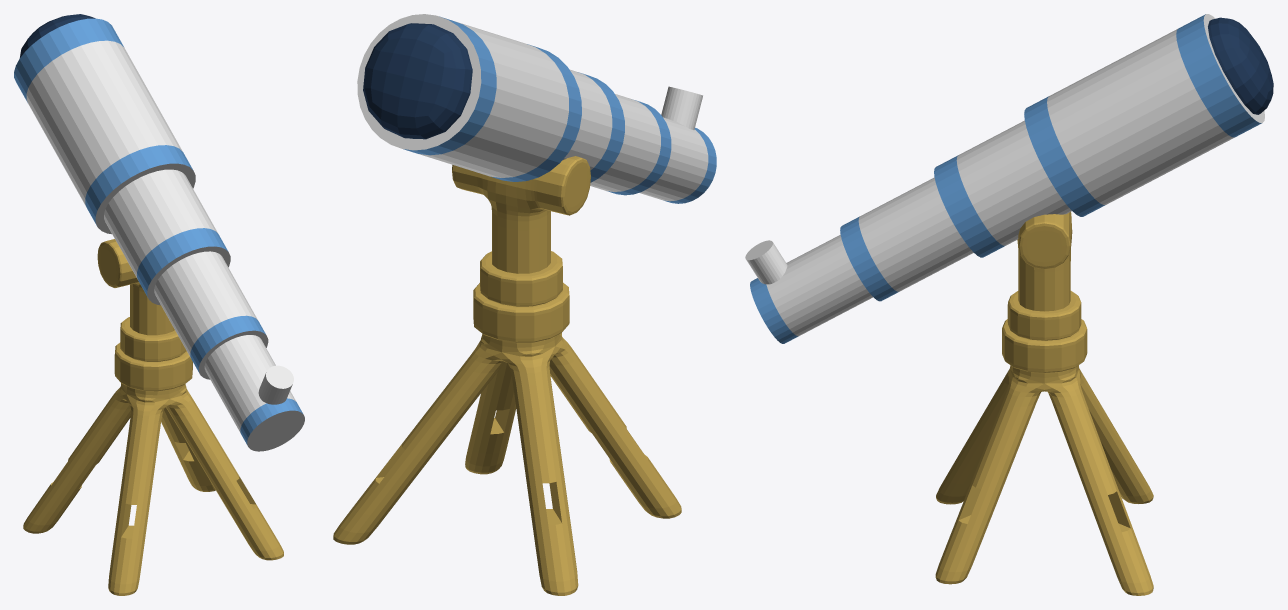
The model's file is Telescopio.glb.
3 views of the same model, side by side, from view 1: azimuth 30°, elevation 25°; view 2: azimuth 150°, elevation 25°; view 3: azimuth 270°, elevation 25° (orthographic). The views are drawn at different scales.
Parts seen in each view (by area): view 1: Cylinder.001; view 2: Cylinder.001; view 3: Cylinder.001.
Boxes of the visible parts, x1=… form: Cylinder.001: x1=14, y1=14, x2=304, y2=595; Cylinder.001: x1=333, y1=14, x2=716, y2=595; Cylinder.001: x1=745, y1=14, x2=1273, y2=595.
Bounding box in the file's own units: 8.61 × 19.92 × 18.47.
